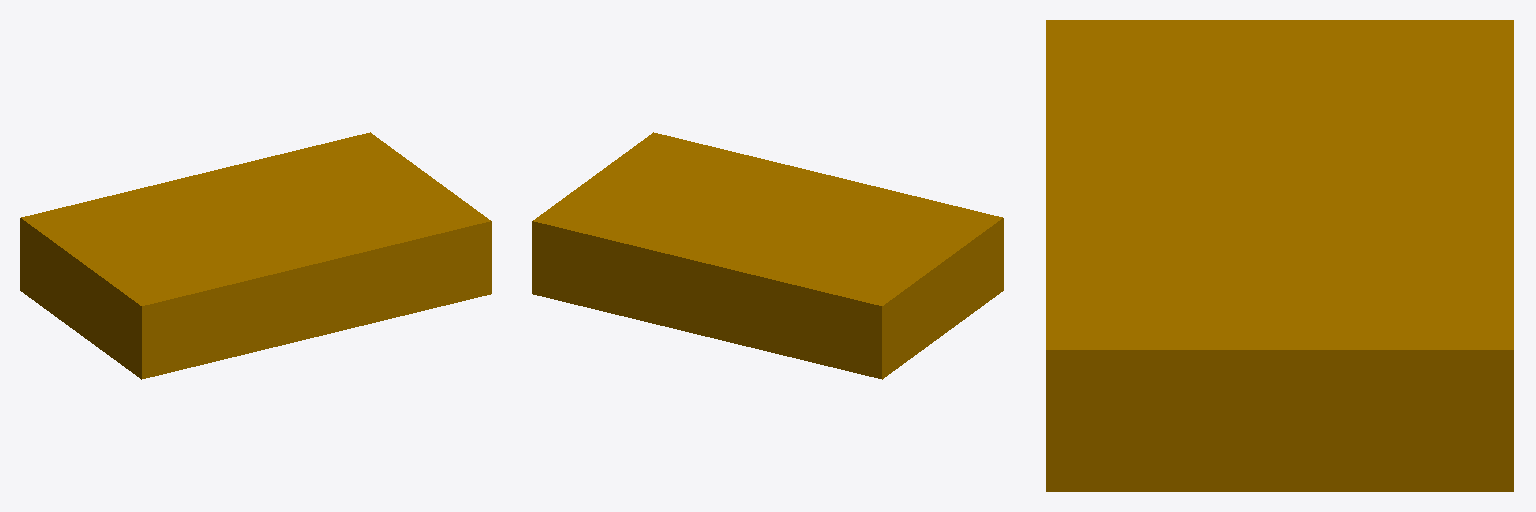
The robot description file, URDF, robot "demo_robot":
<robot name="demo_robot">
    <link name="base_link">
        <visual>
            <!-- 形状 -->
            <geometry>
                <!-- 长方体的长宽高 -->
                <box size="0.5 0.3 0.1" />
                <!-- 圆柱，半径和长度 -->
                <!-- <cylinder radius="0.5" length="0.1" /> -->
                <!-- 球体，半径-->
                <!-- <sphere radius="0.3" /> -->

            </geometry>
            <!-- xyz坐标 rpy翻滚俯仰与偏航角度(3.14=180度 1.57=90度) -->
            <origin xyz="0 0 0" rpy="0 0 0" />
            <!-- 颜色: r=red g=green b=blue a=alpha -->
            <material name="black">
                <color rgba="0.7 0.5 0 0.5" />
            </material>
        </visual>
    </link>
</robot>

--- What the picture shows (computed from the rendered views, not written in the file) ---
3 views of the same robot in one strip: view 1: azimuth 30°, elevation 25°; view 2: azimuth 150°, elevation 25°; view 3: azimuth 270°, elevation 25° (orthographic).
Model demo_robot with 1 links and 0 joints (none), rooted at base_link, posed all joints at 0.
Links seen in each view (by area): view 1: base_link; view 2: base_link; view 3: base_link.
Link boxes in pixels (left/top/right/bottom): base_link: left=20, top=132, right=491, bottom=379; base_link: left=532, top=132, right=1003, bottom=379; base_link: left=1046, top=20, right=1513, bottom=491.
Size in the robot's own frame: 0.5 by 0.3 by 0.1 metres.
Geometry: primitives only (box / cylinder / sphere), no mesh files.